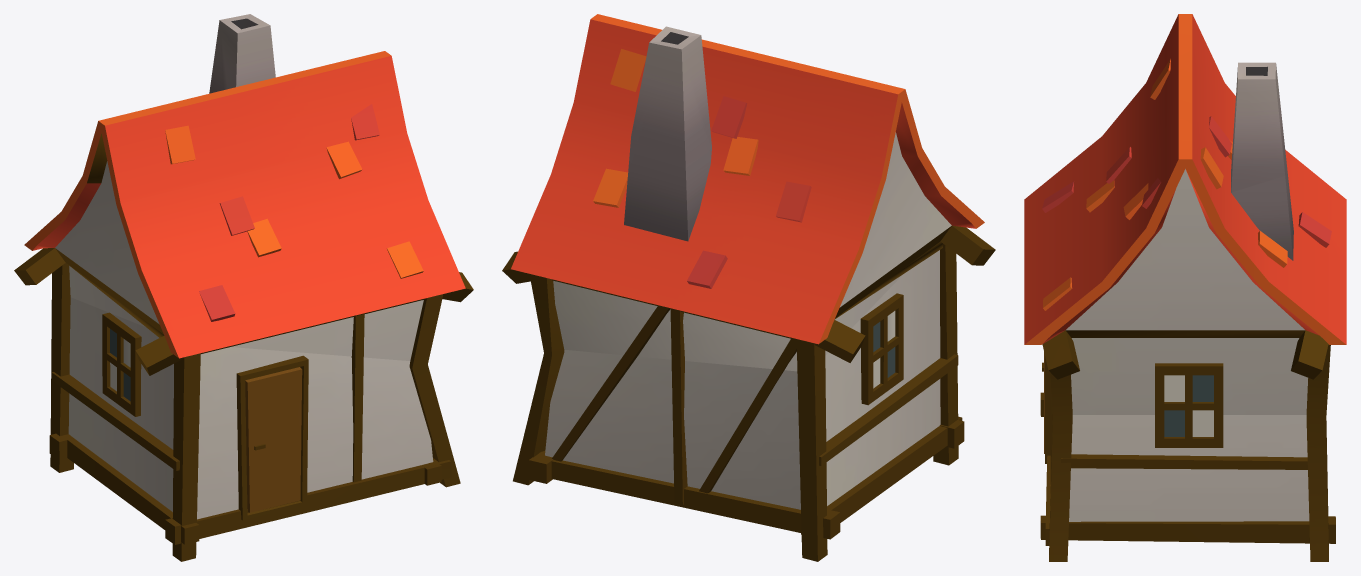
The model's file is House_4.fbx.
3 views of the same model, side by side, from view 1: azimuth 30°, elevation 25°; view 2: azimuth 150°, elevation 25°; view 3: azimuth 270°, elevation 25° (orthographic). The views are drawn at different scales.
Visible parts, largest first — view 1: House_4; view 2: House_4; view 3: House_4.
Part boxes in pixels (x1,y1,x2,y2): House_4: [14, 14, 473, 561]; House_4: [502, 14, 995, 561]; House_4: [1024, 14, 1346, 561].
Bounding box in the file's own units: 1.44 × 1.78 × 1.18.
